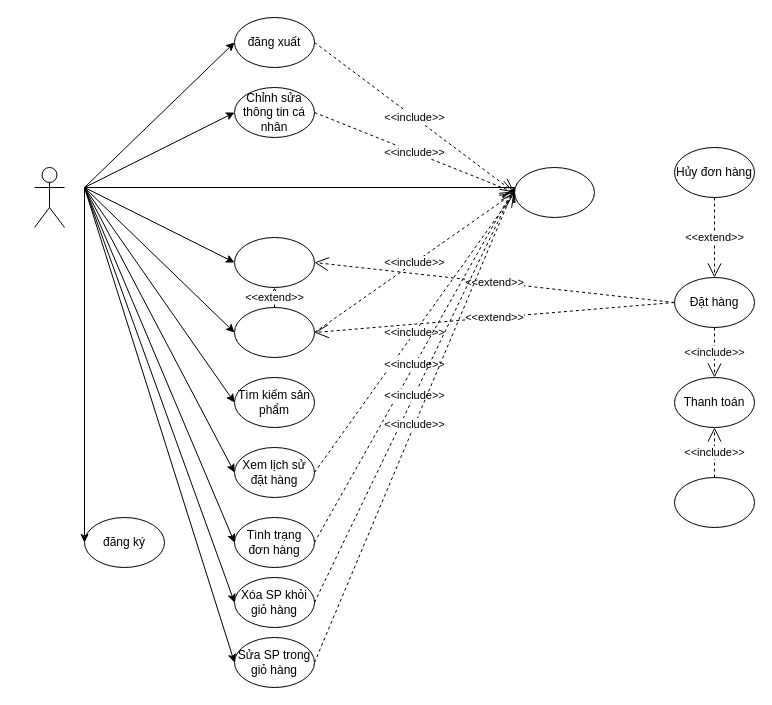
Image size: 772x705. Some labels were removed from this diagram. Here are the shapes that lost their labels. From the top down, the centre of each, then its label:
[49,197]: Khách hàng
[554,192]: đăng nhập
[274,262]: Xem chi tiết sản phẩm
[274,332]: Thêm vào giỏ hàng
[714,502]: Phương thức thanh toán
